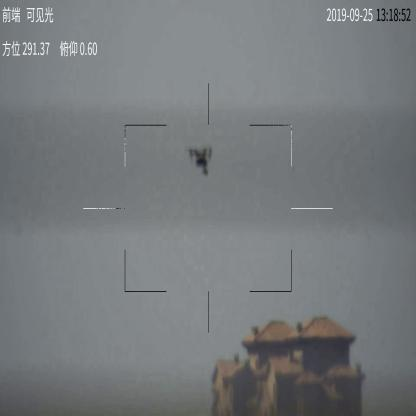uav: (186, 145, 213, 176)
